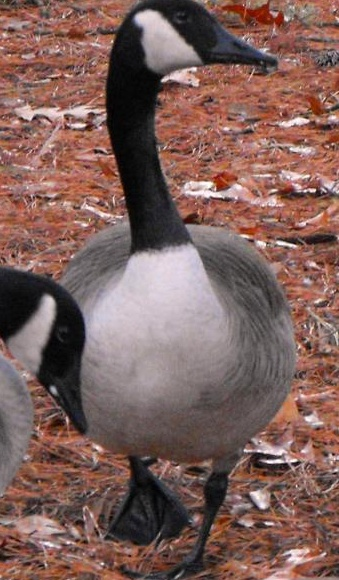goose: (19, 1, 315, 576)
